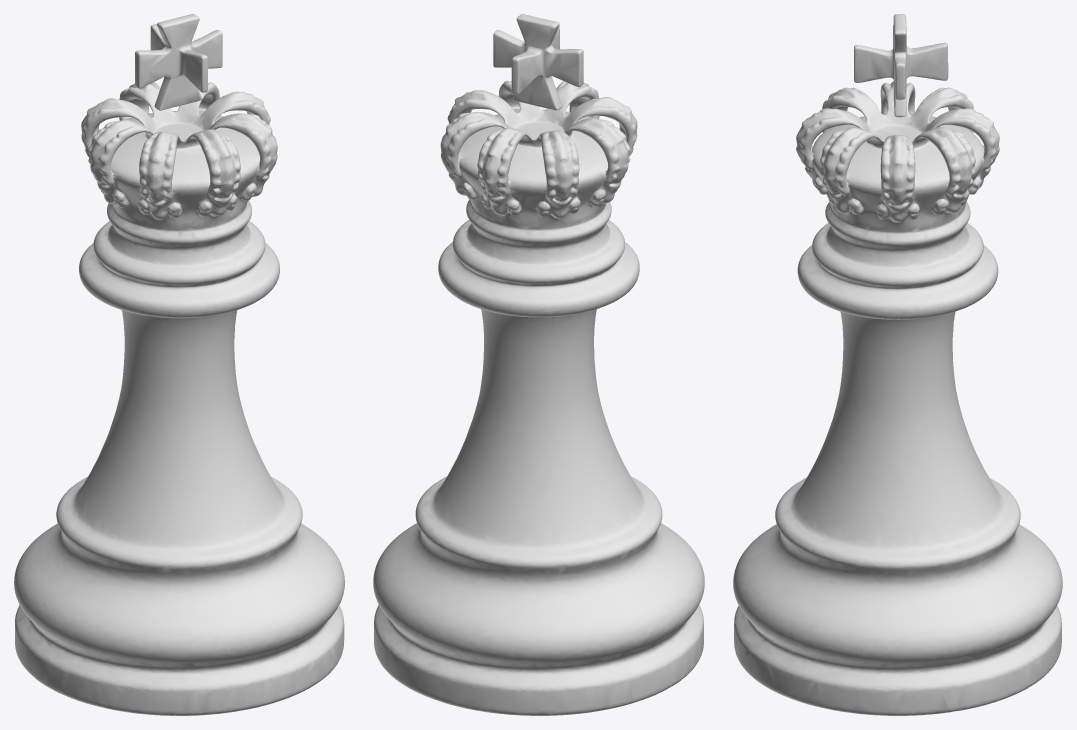
File: king_high.glb
3 renders of one model, left to right at view 1: azimuth 30°, elevation 25°; view 2: azimuth 150°, elevation 25°; view 3: azimuth 270°, elevation 25°, orthographic.
Visible parts, largest first — view 1: world; view 2: world; view 3: world.
Part boxes in pixels (x1,y1,x2,y2): world: (14,14,344,715); world: (373,14,704,715); world: (733,14,1062,715).
Bounding box in the file's own units: 0.4769 × 1 × 0.477.
Materials: 1 (1 with a texture image).
